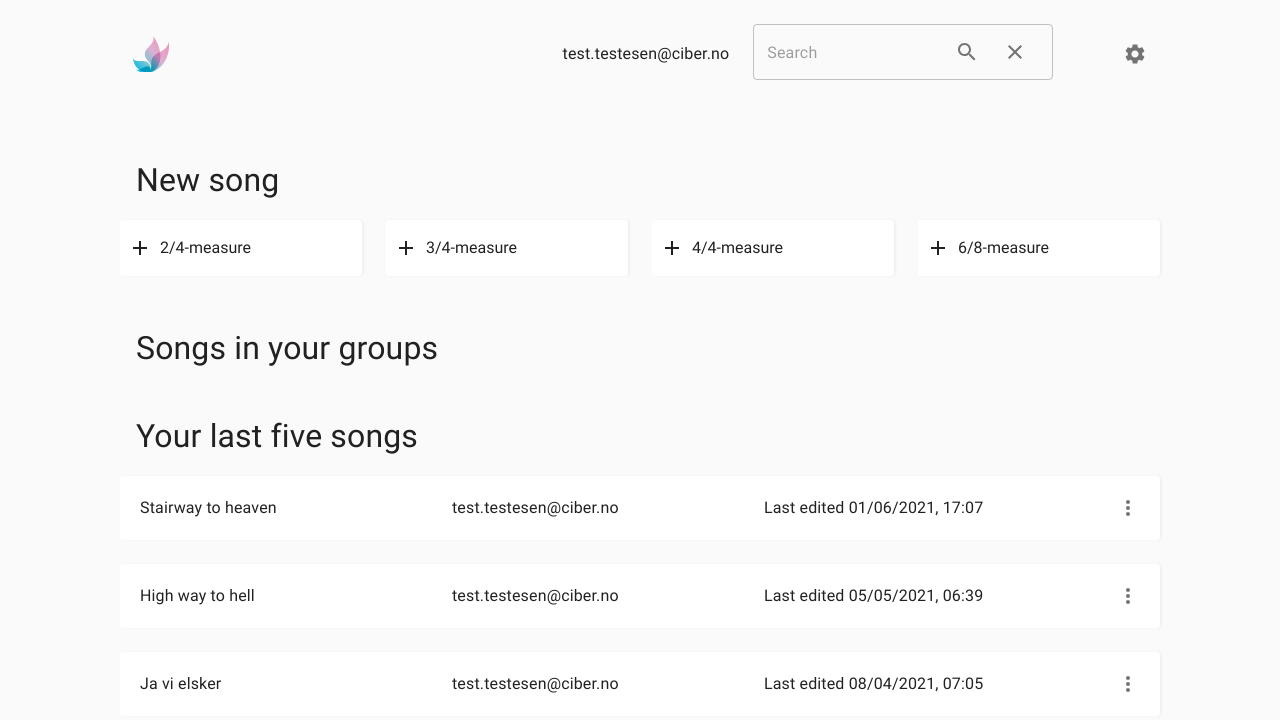
it: Dashboard › Should delete song
Click the button named "Song menu" next to "01/06/2021, 17:07".
click(1128, 508)  # box [1104, 484, 1152, 532]
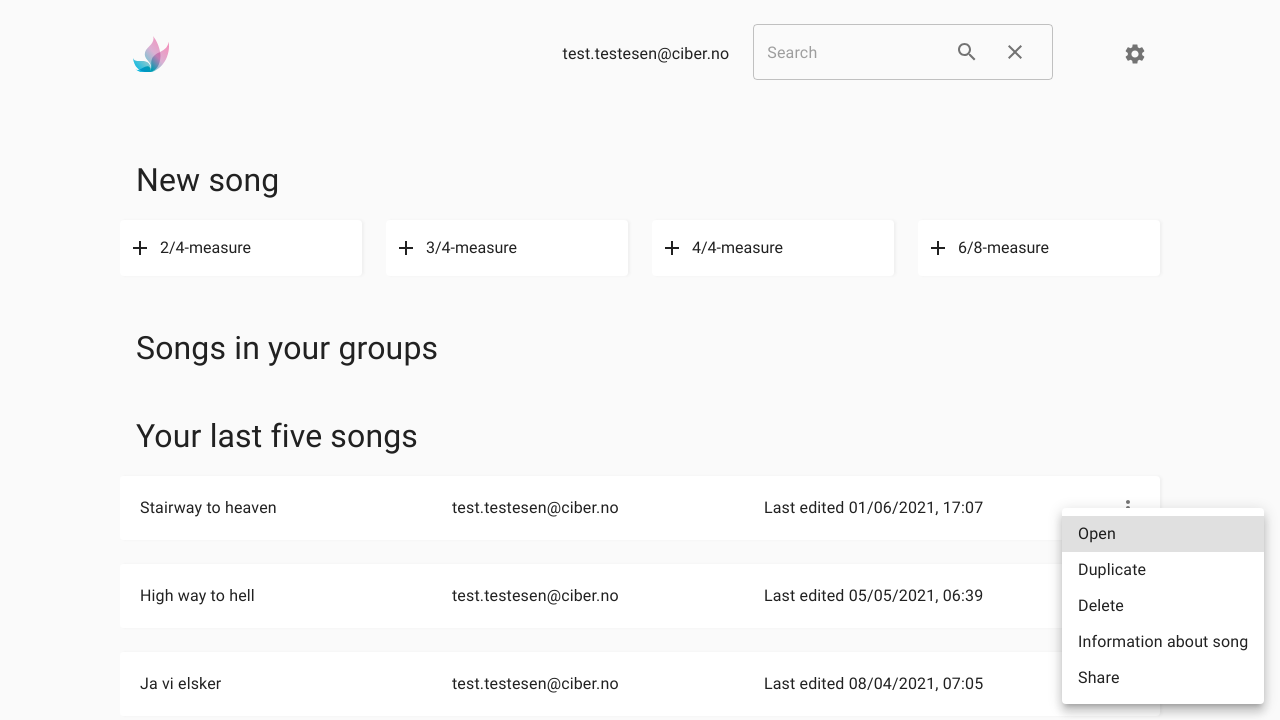
Click the menu item "Delete".
click(1101, 606)  # box [1078, 596, 1124, 615]
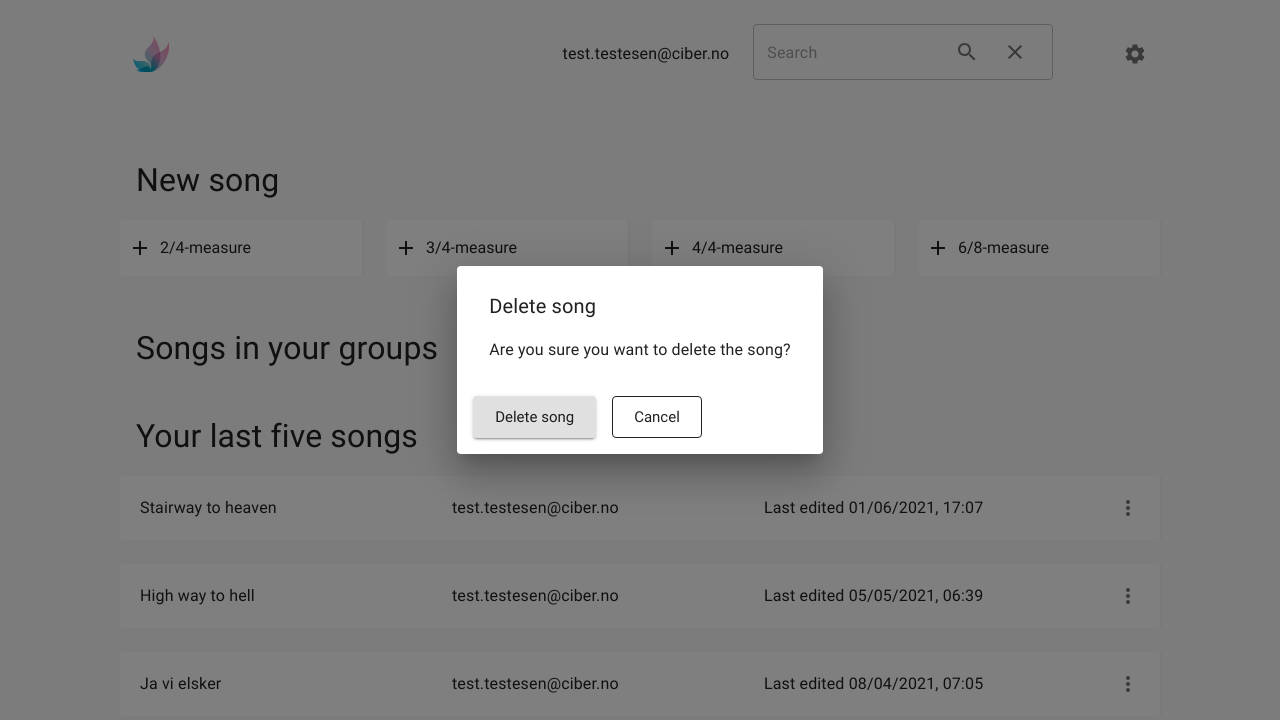
Click the button "Delete song".
click(535, 417)  # box [473, 396, 596, 438]
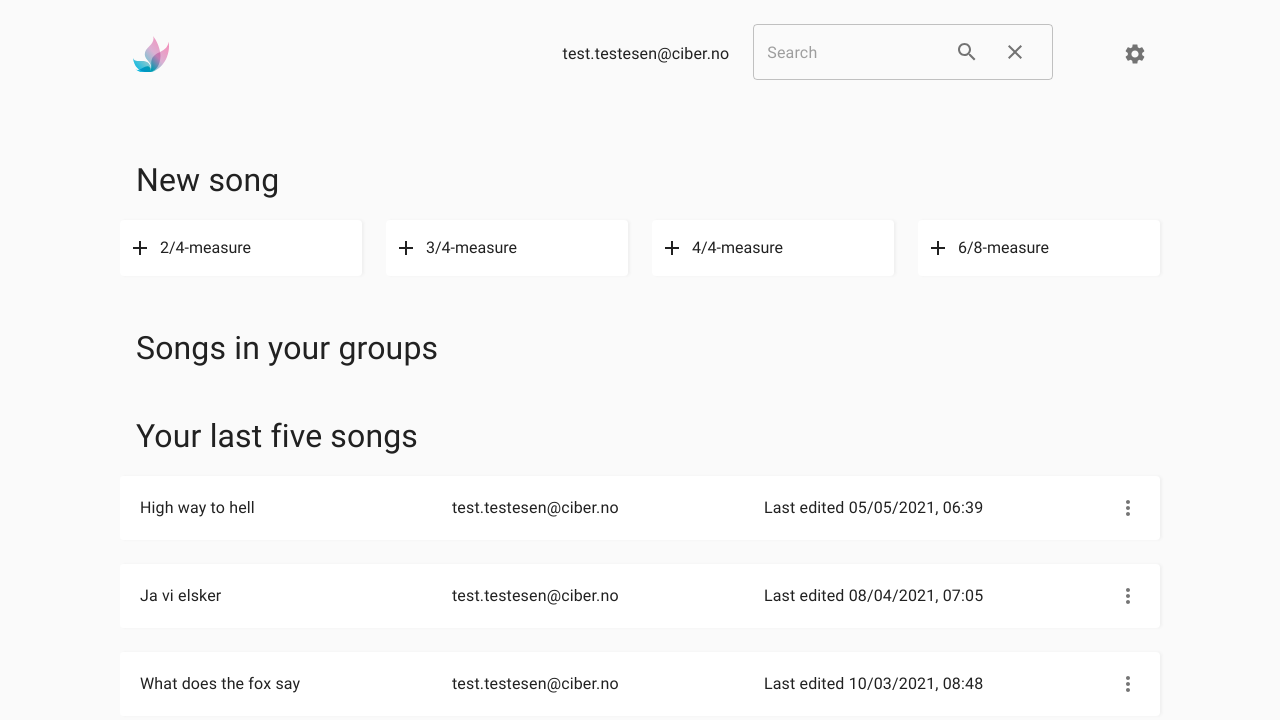
Expected: the link "Stairway to heaven" is gone
